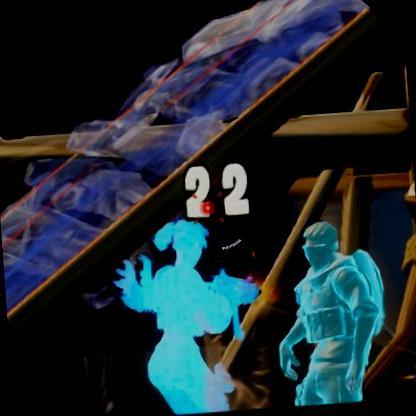person: (271, 216, 392, 406)
